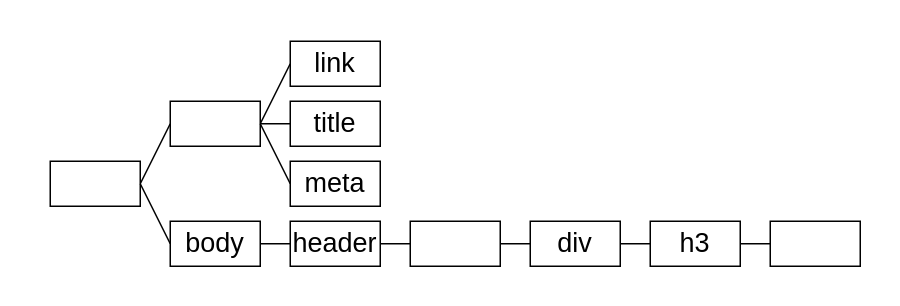
The diagram is 900 pixels wide and 306 high, and some of its shapes have lost their labels. Each missing label, with the centre of its shape:
head: (214,123)
html: (94,183)
section: (454,243)
span: (814,243)
